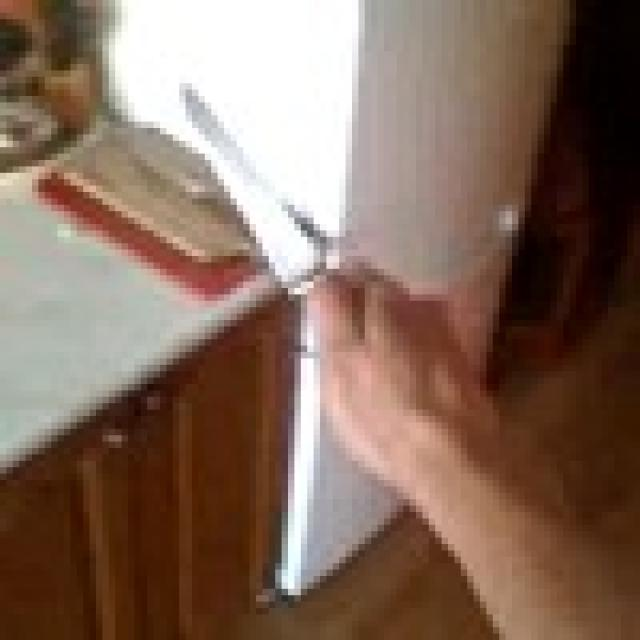Knife_Handle: (182, 80, 496, 445)
